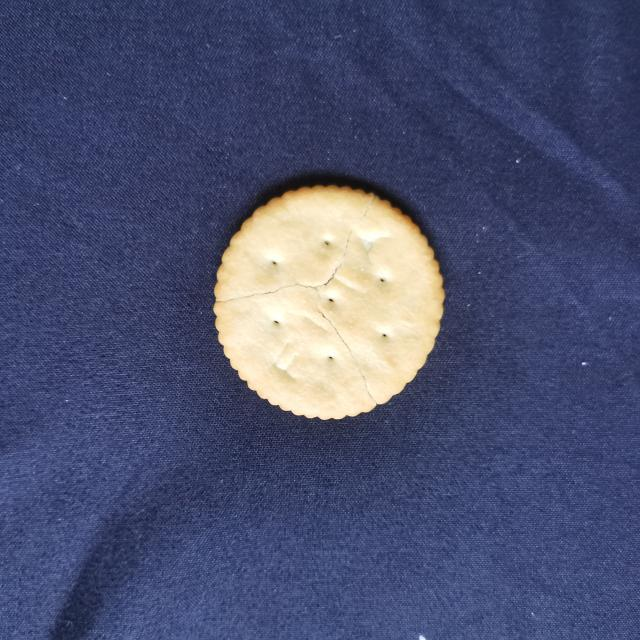Fracture: (214, 194, 387, 416)
